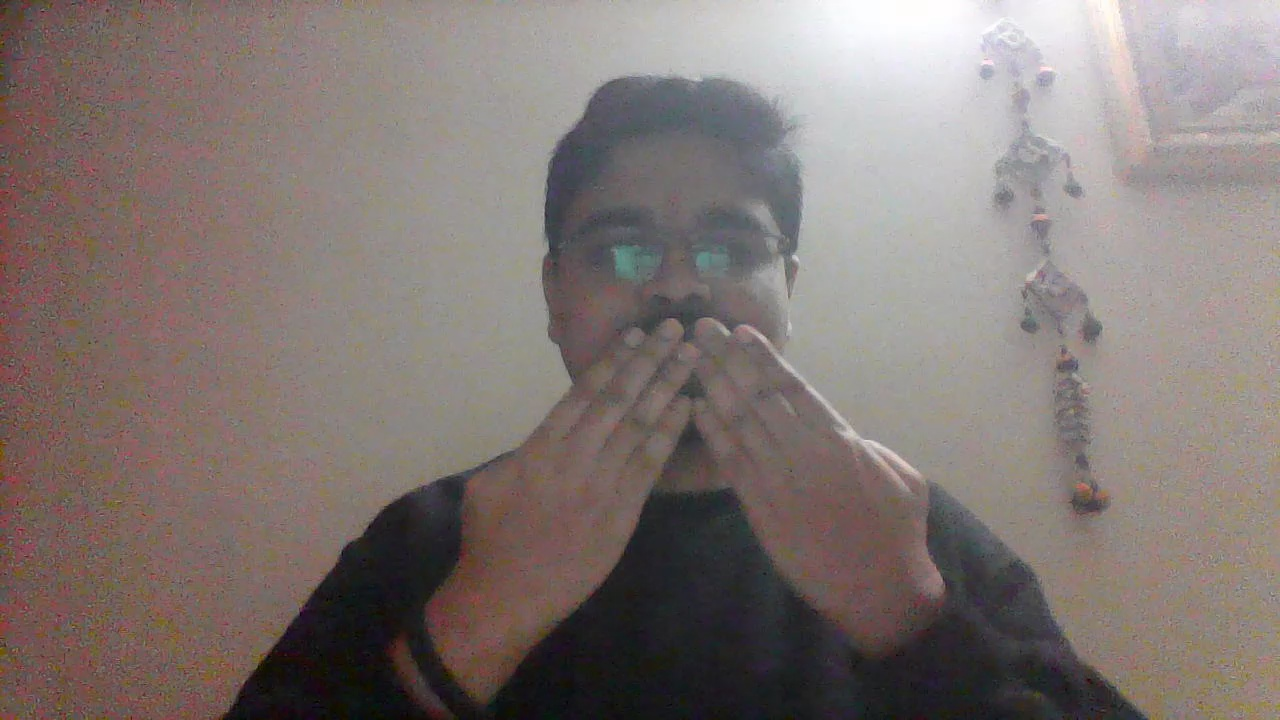Thanks: (447, 316, 935, 629)
